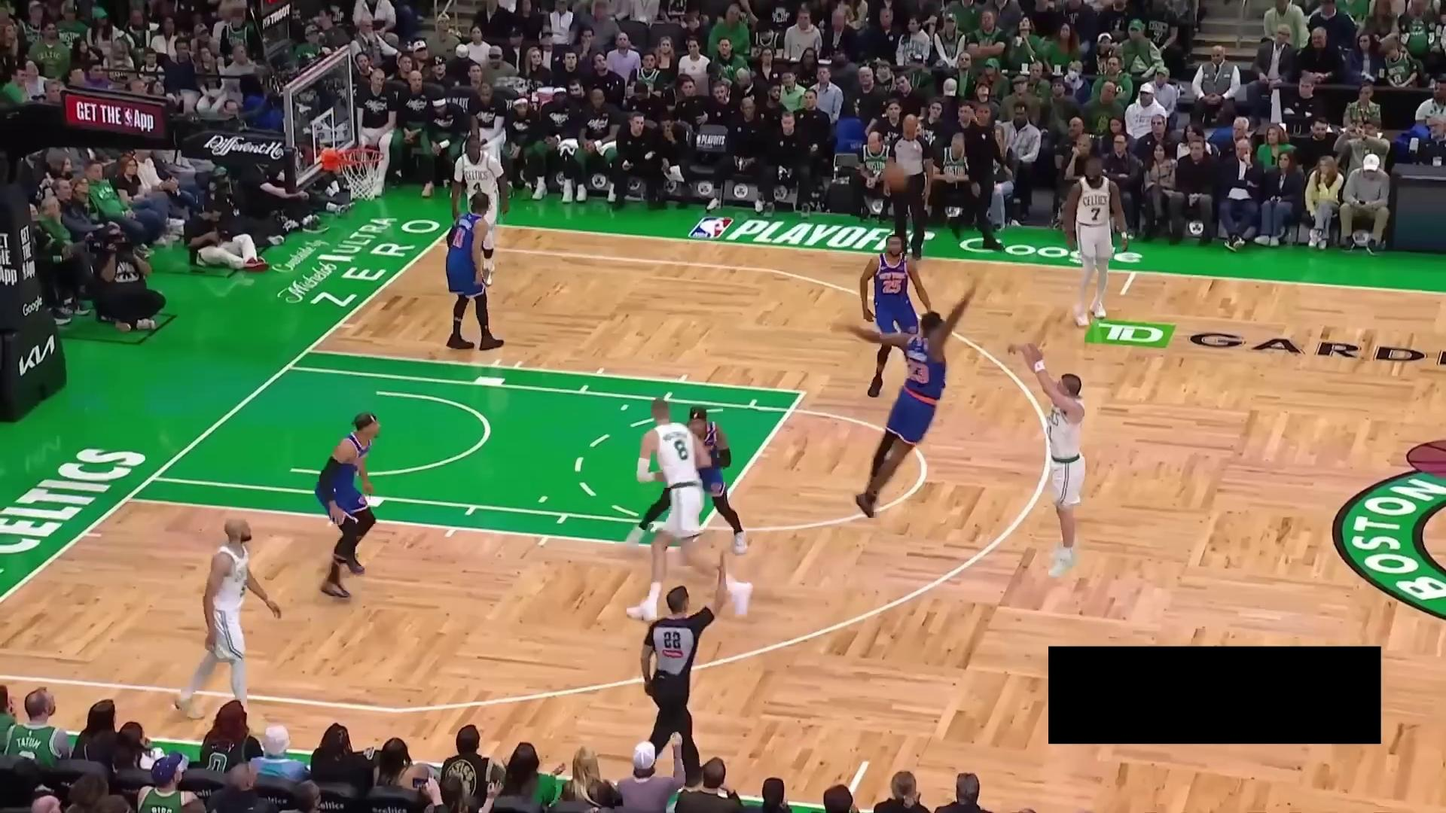ball: (881, 164, 907, 190)
number: (904, 356, 929, 385), (672, 435, 690, 463), (451, 224, 468, 249), (881, 278, 903, 295), (1089, 205, 1102, 221), (473, 180, 483, 193)
player: (624, 398, 754, 622), (172, 515, 285, 735), (623, 406, 751, 553), (860, 233, 945, 398), (315, 412, 380, 601), (1062, 155, 1129, 328), (445, 192, 505, 352), (450, 133, 510, 287)
player-jump-shot: (1007, 339, 1088, 577)
player-shot-block: (840, 271, 980, 524)
referee: (636, 551, 734, 791), (884, 107, 935, 264)
rim: (338, 145, 388, 169)
